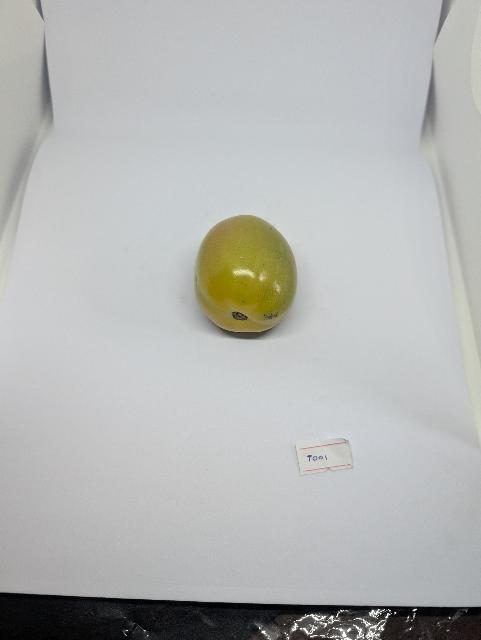breaker: (192, 215, 302, 338)
